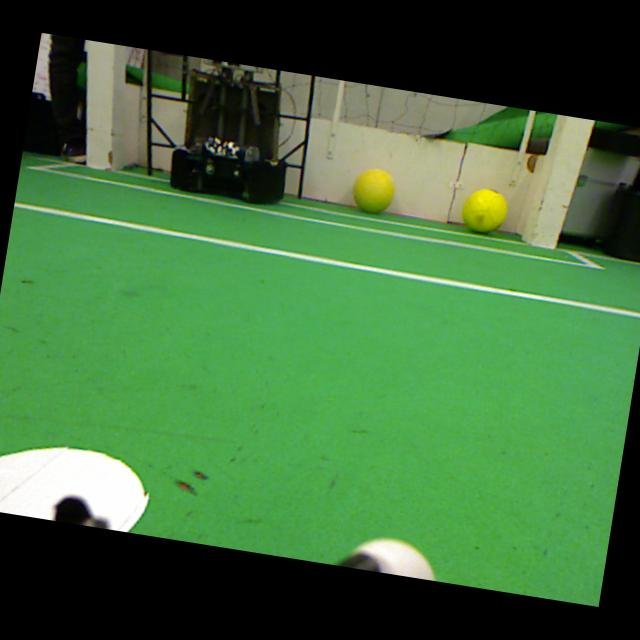ball: (461, 189, 507, 232), (352, 169, 395, 214)
goal: (529, 116, 595, 249), (87, 40, 115, 170)
robot: (169, 59, 287, 205)
